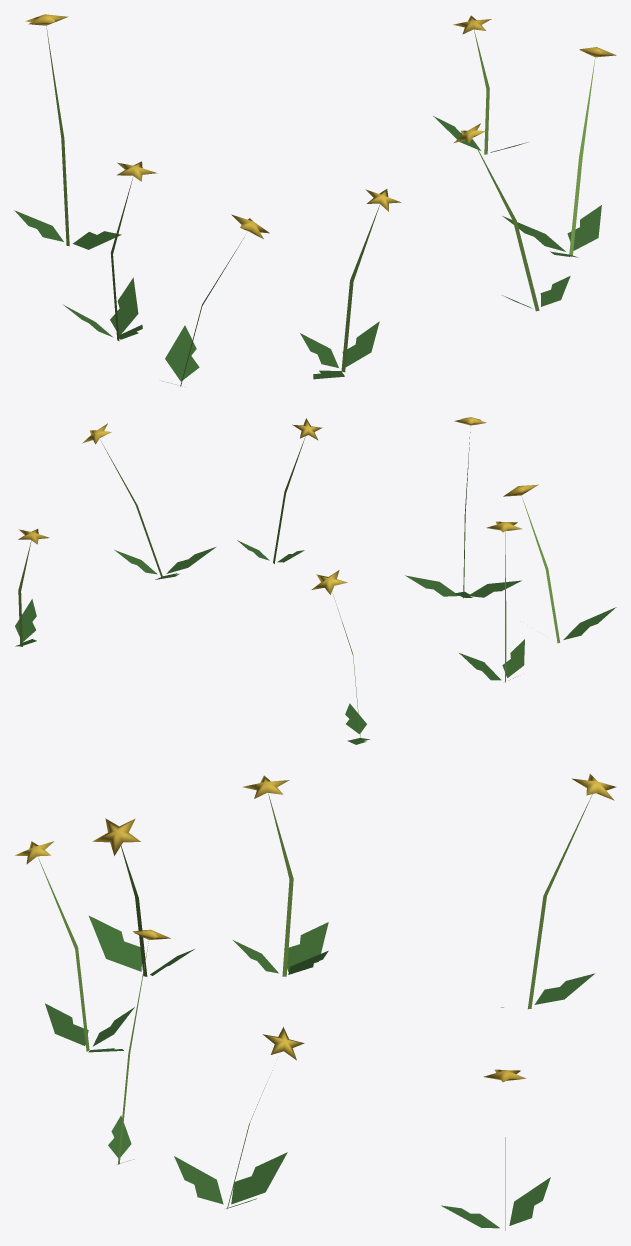
The model's file is flower_scatter_2.glb.
3 views of the same model, one above another, from view 1: azimuth 30°, elevation 25°; view 2: azimuth 150°, elevation 25°; view 3: azimuth 270°, elevation 25° (orthographic). The views are drawn at different scales.
Visible parts, largest first — view 1: flower_scatter_2; view 2: flower_scatter_2; view 3: flower_scatter_2.
Boxes of the visible parts, x1,y1,x2,y2 form: flower_scatter_2: (14, 14, 616, 386); flower_scatter_2: (15, 417, 616, 744); flower_scatter_2: (15, 774, 616, 1230).
Size of the model in its own units: 0.8 by 0.3 by 0.7.
Materials: 2 (2 with a texture image).
